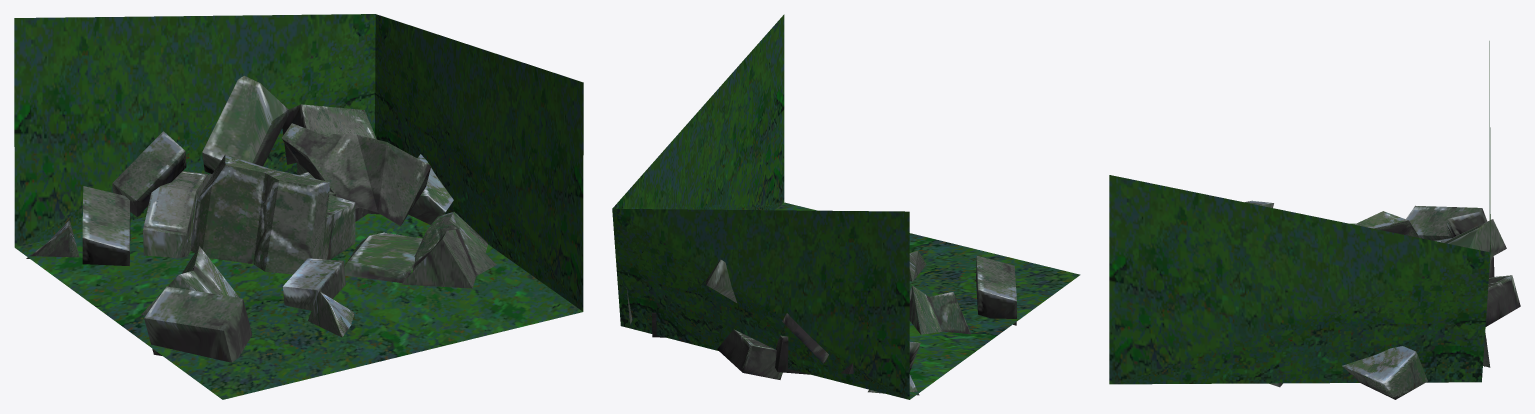
Rendered from stemple_rubble_concave_01.fbx.
3 renders of one model, left to right at view 1: azimuth 30°, elevation 25°; view 2: azimuth 150°, elevation 25°; view 3: azimuth 270°, elevation 25°, orthographic. The views are drawn at different scales.
Visible parts, largest first — view 1: obj1.024; view 2: obj1.024; view 3: obj1.024.
Part boxes in pixels (bbox=[...]): obj1.024: bbox=[14, 14, 583, 399]; obj1.024: bbox=[612, 14, 1080, 399]; obj1.024: bbox=[1109, 41, 1520, 399].
Bounding box in the file's own units: 3.96 × 2.43 × 3.84.
